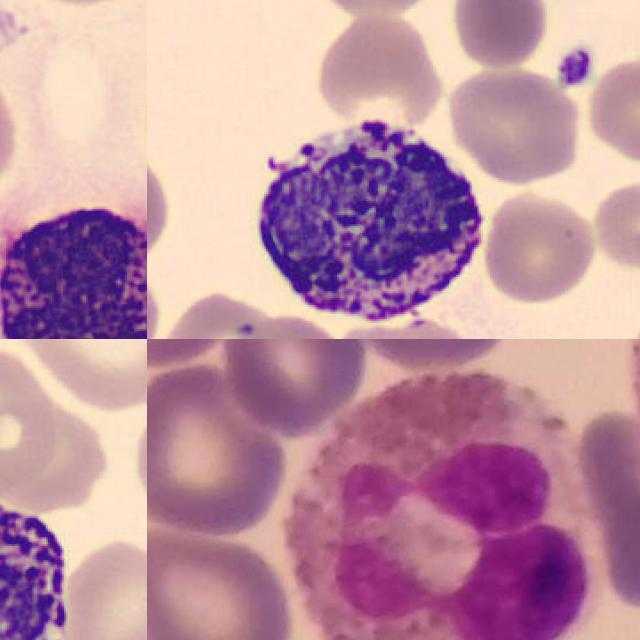Basophil: (240, 110, 494, 334), (0, 180, 147, 339), (0, 463, 80, 640)
Eosinophil: (287, 372, 608, 640)
Platelets: (554, 42, 596, 92)
RBC: (446, 62, 584, 187), (312, 9, 453, 127), (480, 187, 599, 307), (53, 533, 147, 640), (19, 339, 147, 414), (0, 345, 62, 489), (447, 0, 550, 70), (582, 51, 640, 165), (159, 285, 271, 339), (585, 178, 640, 273), (337, 312, 475, 339), (223, 310, 344, 339), (147, 148, 173, 266), (0, 0, 147, 11)
